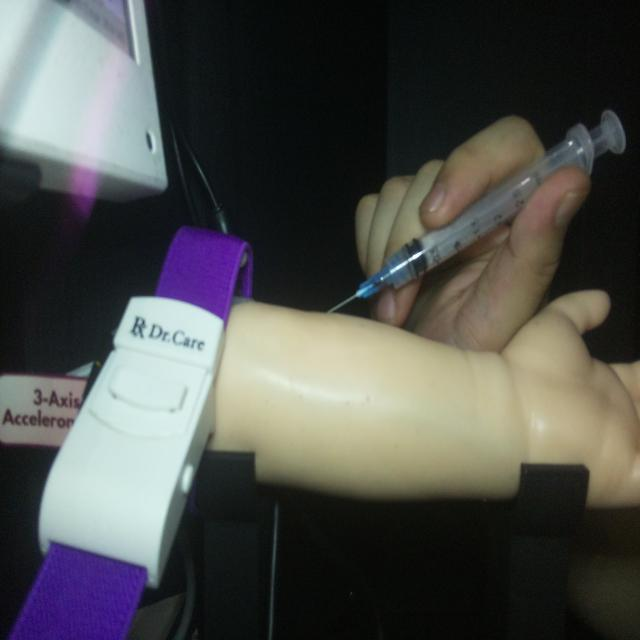21 degrees: (324, 105, 626, 316)
